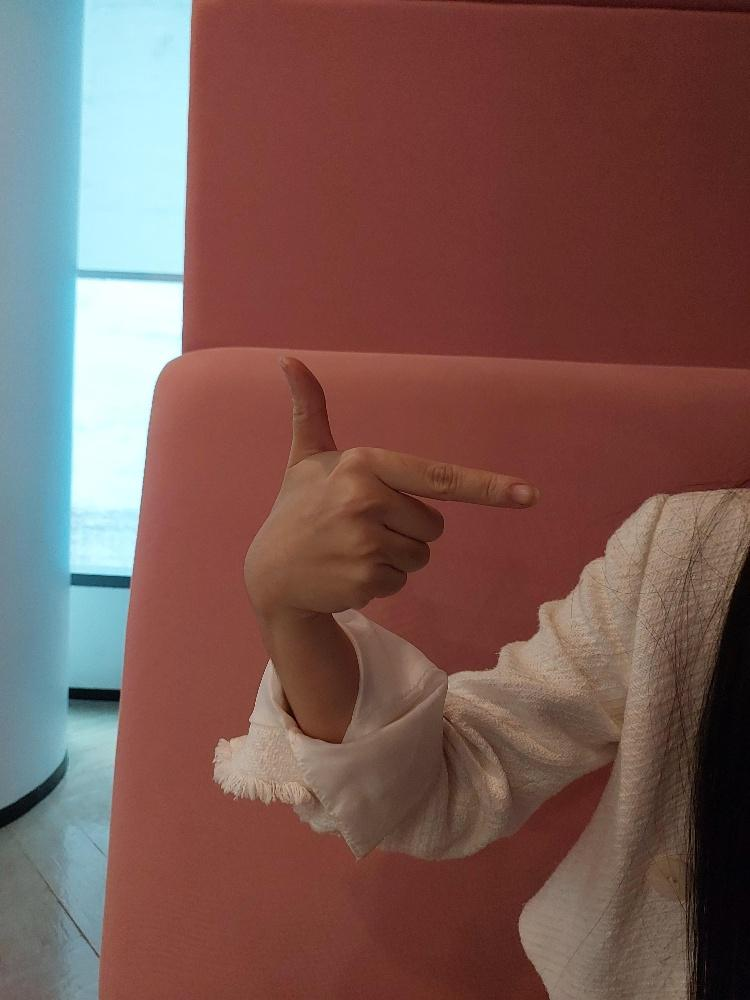g: (242, 357, 541, 612)
